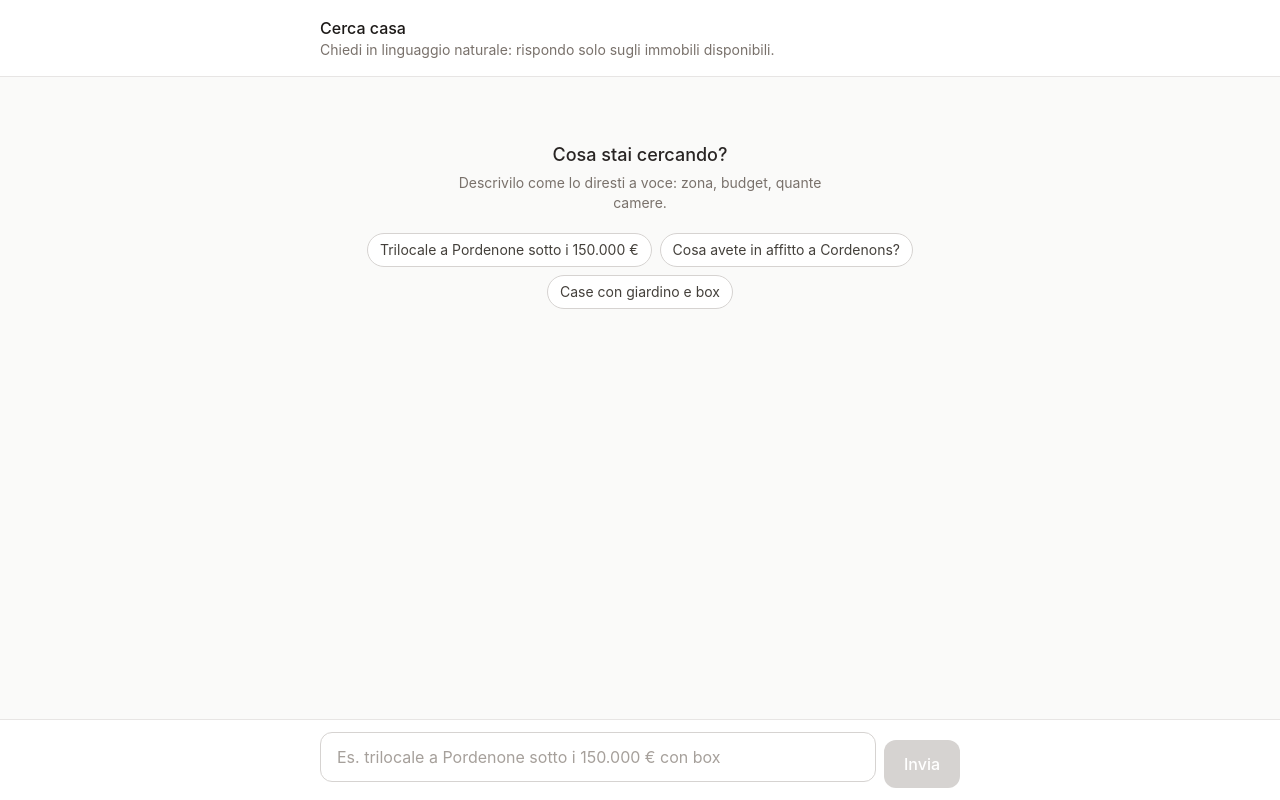
Test: the chat page › shows the question, the answer and the listing behind it
Type "case a Pordenone" into the text box named "Scrivi la tua richiesta".
click(598, 757); type("case a Pordenone")  # box [320,732,876,782]
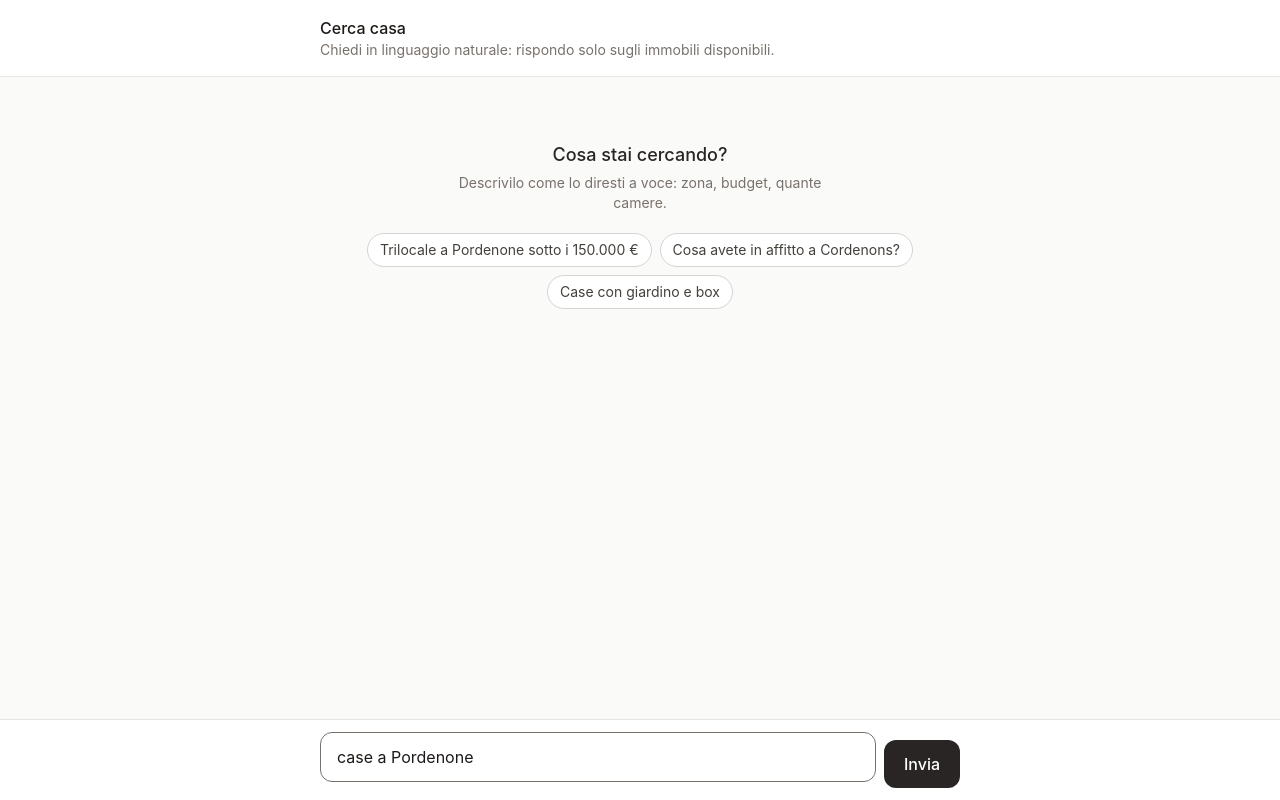
Click the button "Invia".
click(922, 764)  # box [884,740,960,788]
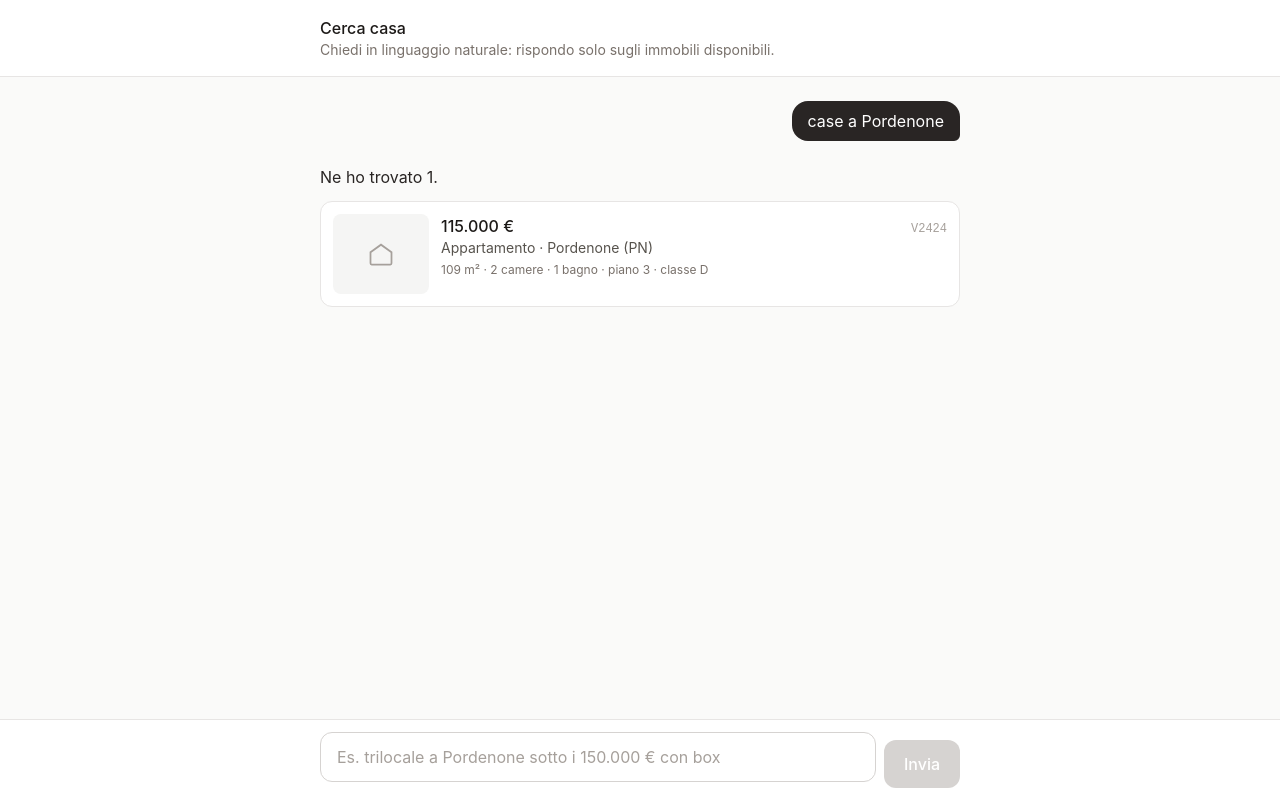
Check: the text "case a Pordenone" is shown, box [792,101,960,141]
Check: the text "Ne ho trovato 1." is shown, box [320,167,438,187]
Check: the text "115.000 €" is shown, box [441,214,514,238]
